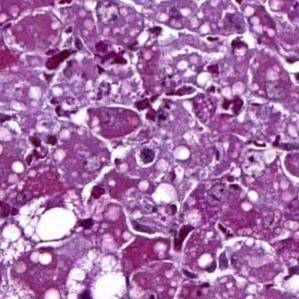ballooning: (14, 193, 79, 246), (64, 247, 127, 298)
